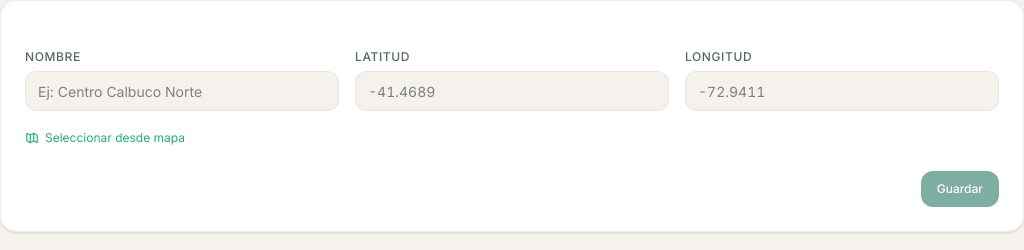
Test: CentroCreateForm › Toggle del mapa › debería mostrar "Ocultar mapa" después de hacer clic
Click the button "Seleccionar desde mapa" at (105, 138), box [25,130,185,146]
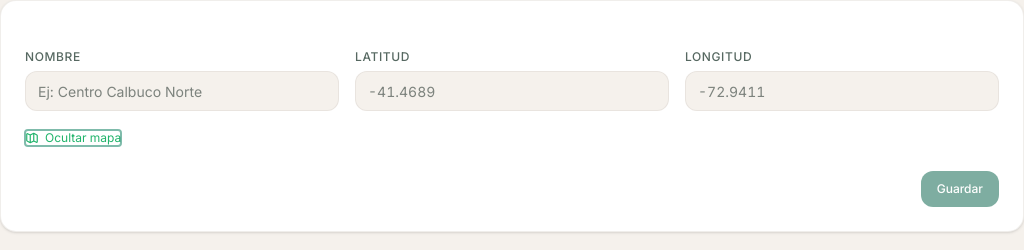
Expected: the button "Ocultar mapa" is shown, [25,130,121,146]
